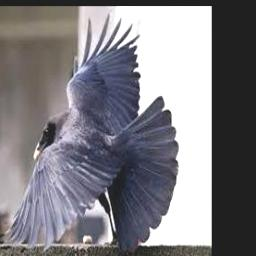Crow: (0, 17, 178, 255)
